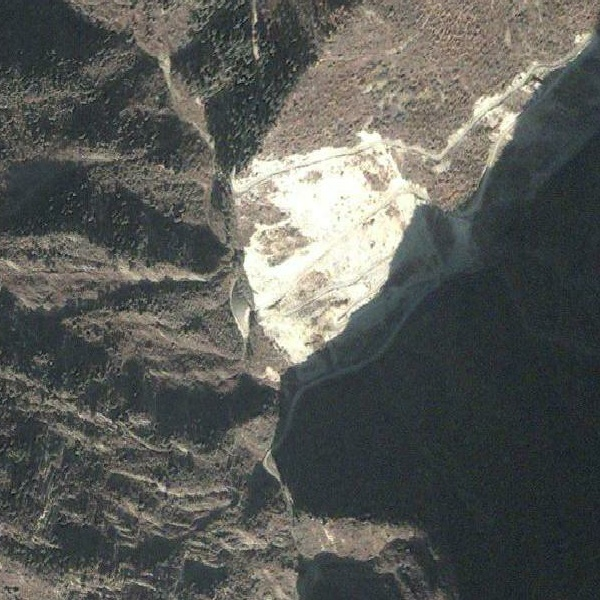slope: (224, 127, 469, 382)
